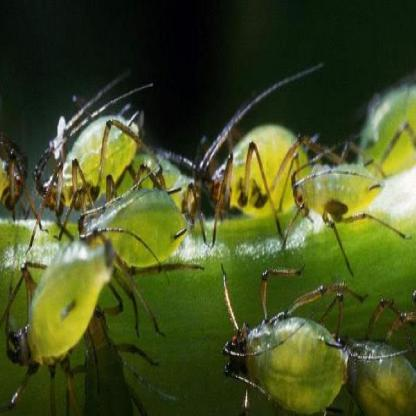aphid: (216, 267, 352, 413), (1, 227, 115, 381), (31, 78, 140, 216), (326, 289, 416, 408), (73, 181, 190, 272), (208, 115, 312, 212), (290, 147, 382, 241), (136, 136, 216, 228), (343, 79, 416, 172), (0, 128, 28, 215)
